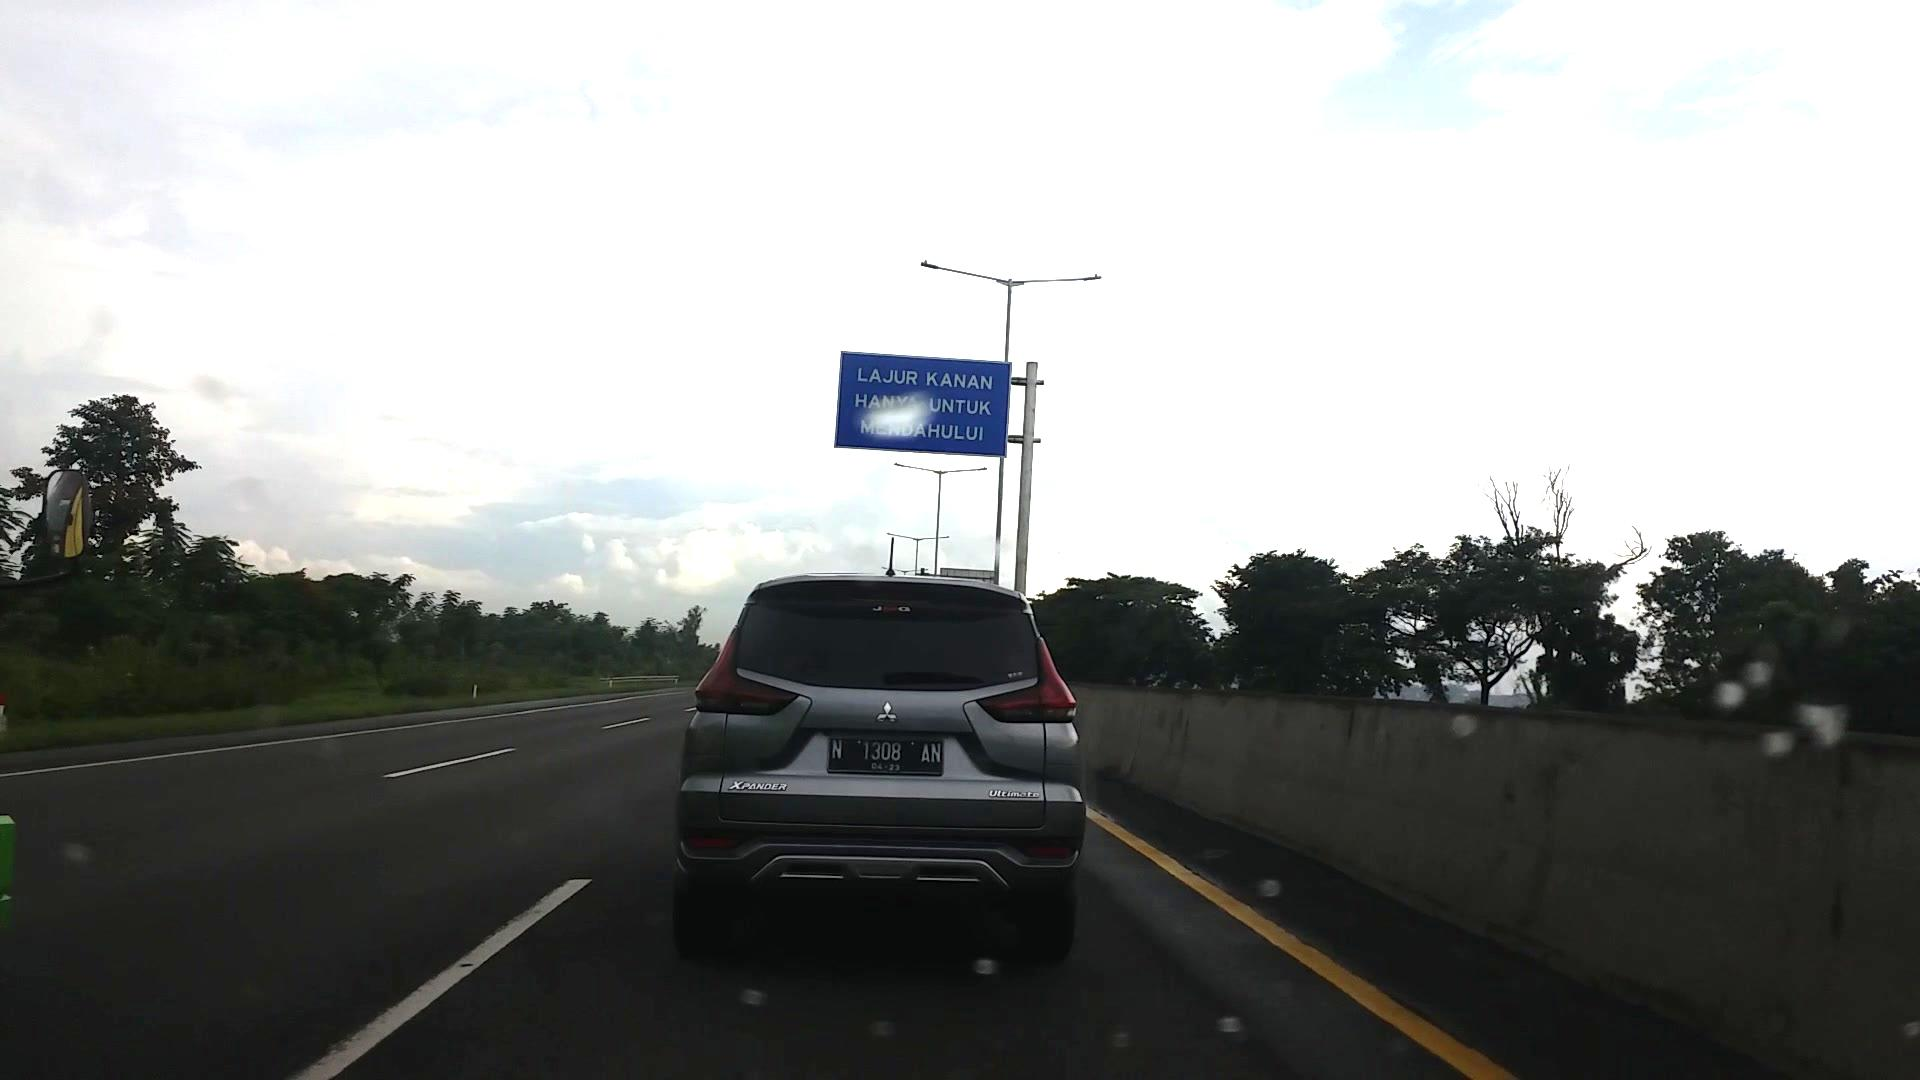plate_positive: (828, 737, 944, 775)
